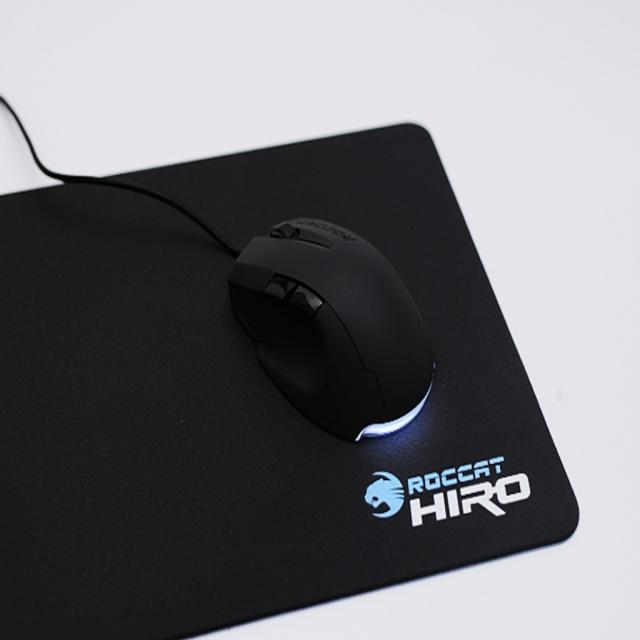Computer-mouse: (229, 215, 434, 446)
